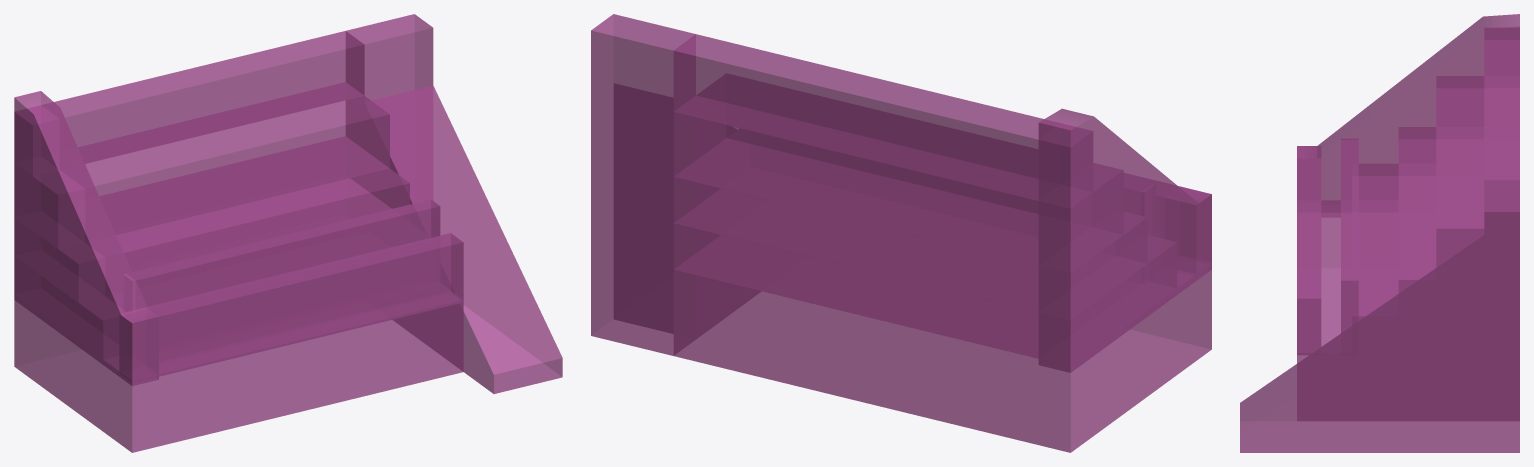
The model's file is SM_Prop_Theater_Straight_01_Collision.fbx.
The picture shows the model from 3 angles, left to right: view 1: azimuth 30°, elevation 25°; view 2: azimuth 150°, elevation 25°; view 3: azimuth 270°, elevation 25°; orthographic projection. The views are drawn at different scales.
Parts seen in each view (by area): view 1: SM_Prop_Theater_Straight_01_Collision; view 2: SM_Prop_Theater_Straight_01_Collision; view 3: SM_Prop_Theater_Straight_01_Collision.
Boxes of the visible parts, x1,y1,x2,y2 form: SM_Prop_Theater_Straight_01_Collision: [14, 14, 562, 452]; SM_Prop_Theater_Straight_01_Collision: [591, 14, 1211, 452]; SM_Prop_Theater_Straight_01_Collision: [1240, 14, 1519, 452].
Size of the model in its own units: 478 by 307 by 306.
